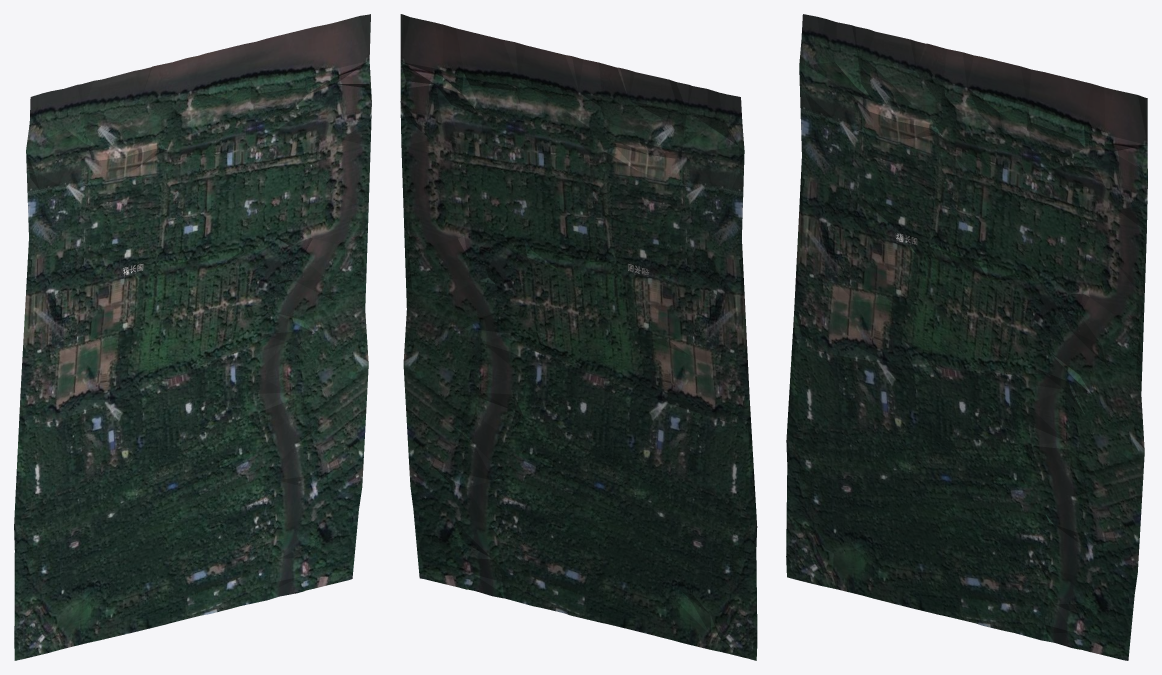
The picture shows the model from 3 angles, left to right: view 1: azimuth 30°, elevation 25°; view 2: azimuth 150°, elevation 25°; view 3: azimuth 330°, elevation 25°; orthographic projection.
Visible parts, largest first — view 1: 0_2_1_2_1_2; view 2: 0_2_1_2_1_2; view 3: 0_2_1_2_1_2.
Boxes of the visible parts, box(x1,y1,x2,y2) form: 0_2_1_2_1_2: box(14, 14, 371, 660); 0_2_1_2_1_2: box(400, 14, 757, 660); 0_2_1_2_1_2: box(786, 14, 1147, 660).
Size of the model in its own units: 325 by 486 by 4.44.
1 material, 1 textured.
